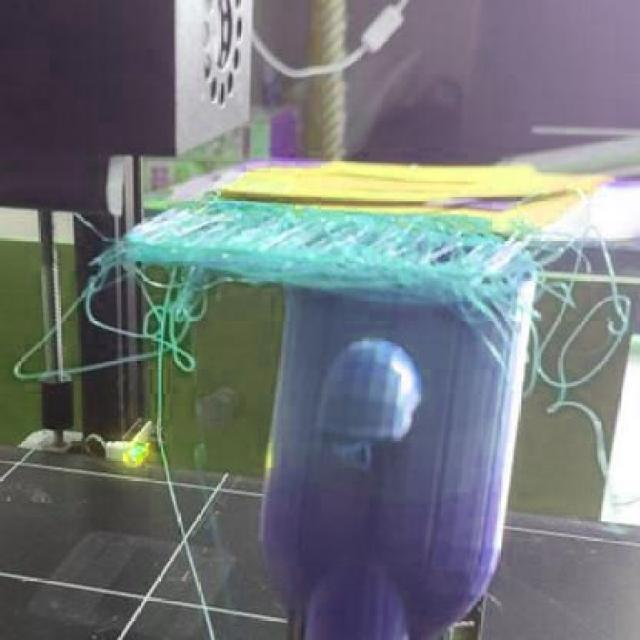spaghetti: (89, 185, 511, 304), (516, 177, 638, 506), (12, 263, 212, 383), (458, 274, 534, 376)
